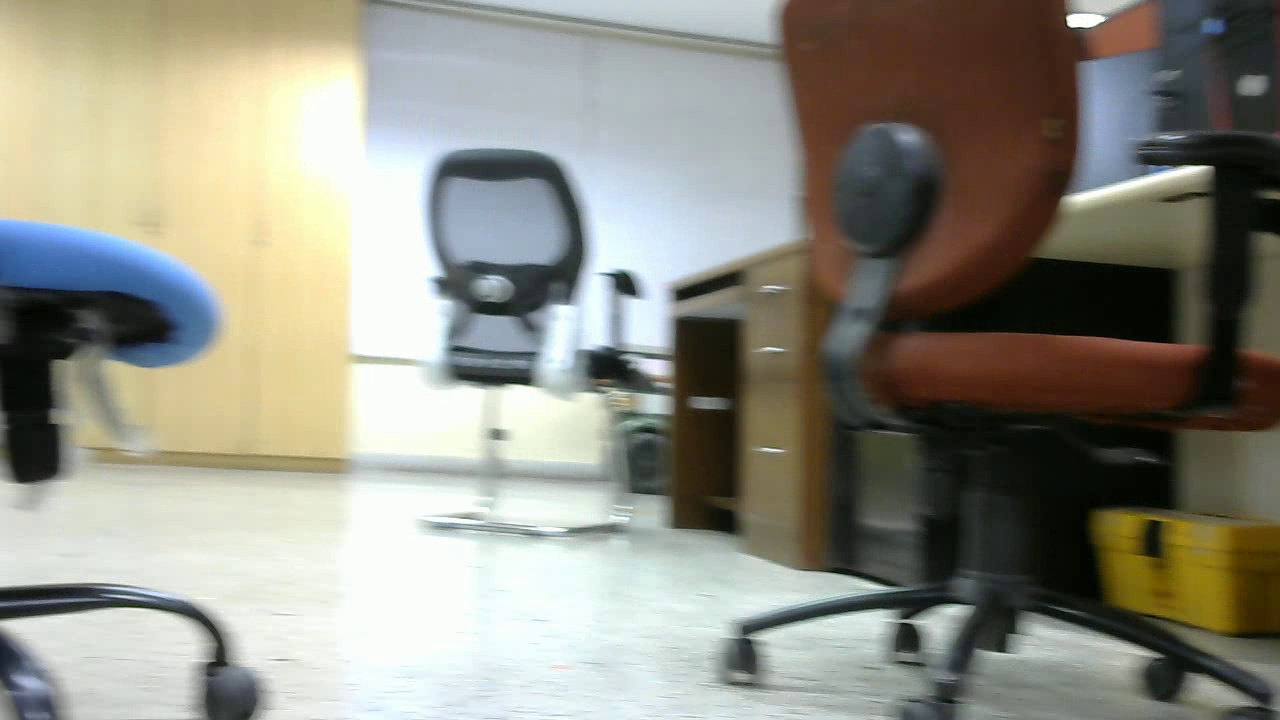chair: (718, 1, 1280, 720), (393, 141, 667, 555)
